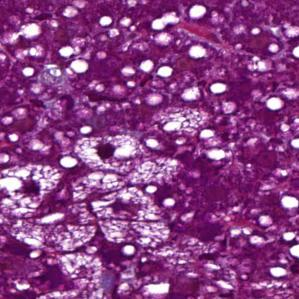ballooning: (89, 185, 173, 250), (4, 162, 66, 220), (72, 133, 151, 178)
